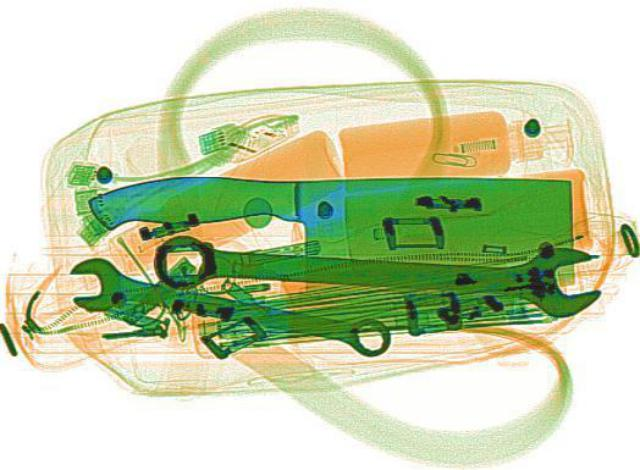Knife: (88, 174, 574, 288)
Wrench: (146, 219, 606, 317), (54, 249, 400, 362)
